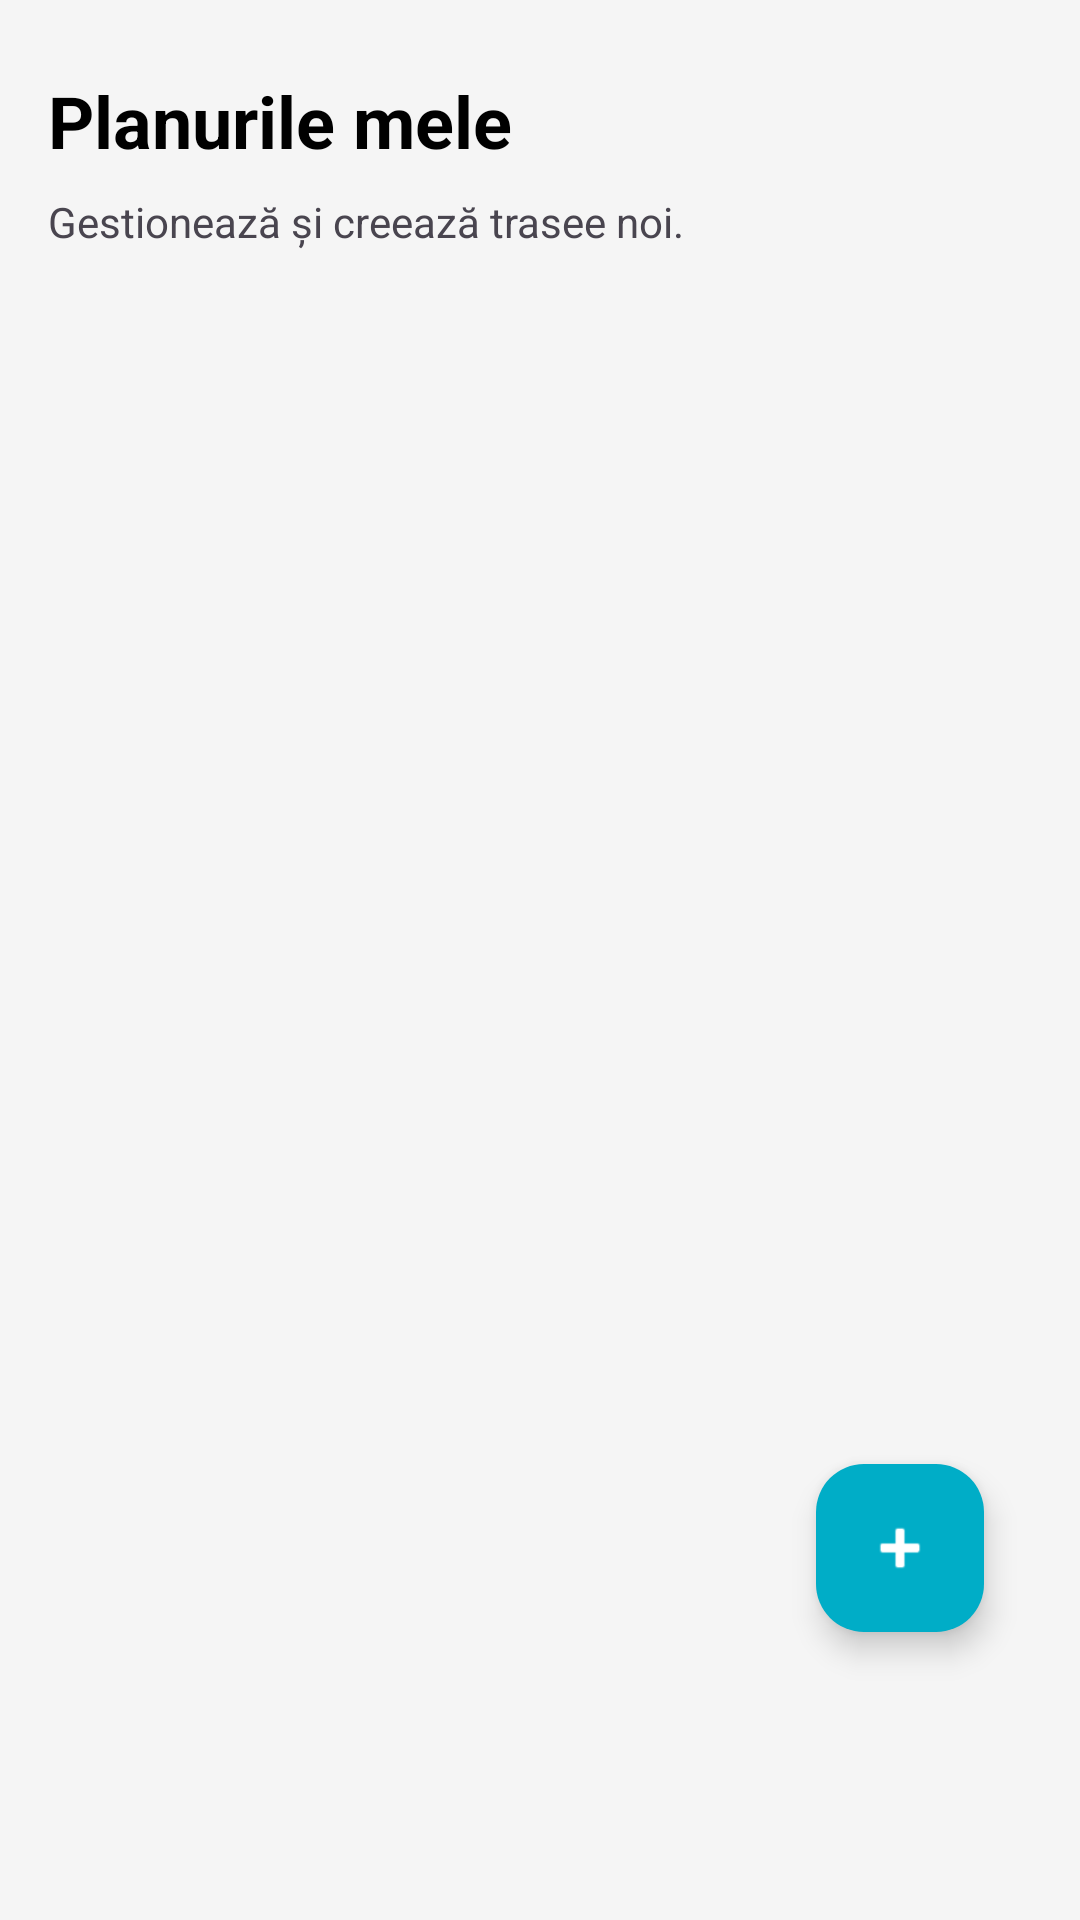

Named icons in this screenshot (1080px x 1920px) and their centers, (x,y):
add: (900,1548)
